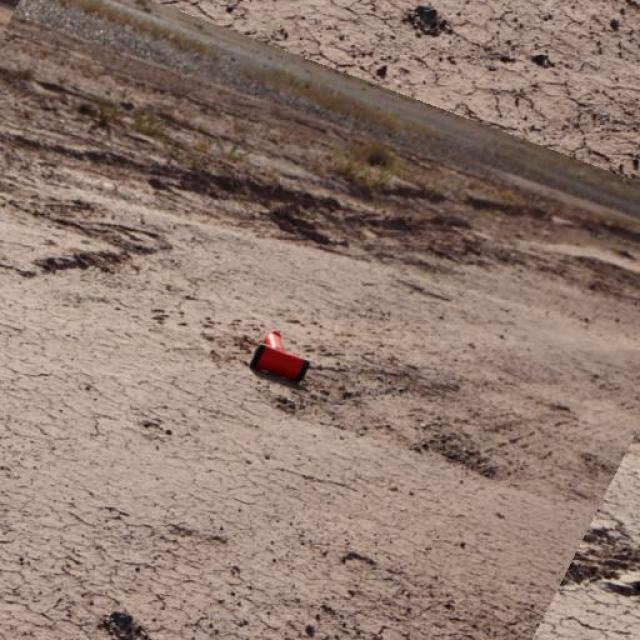mallet: (248, 328, 310, 384)
